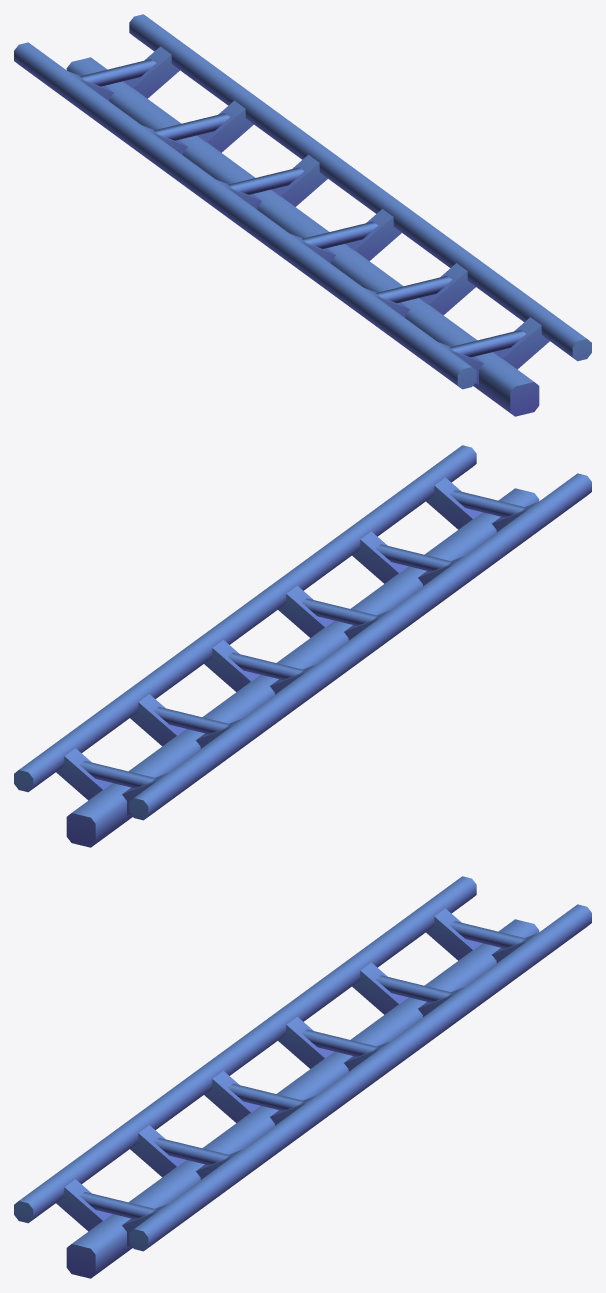
Rendered from kenney-coaster-coaster-steel-straight.glb.
3 renders of one model, top to bottom at view 1: azimuth 30°, elevation 25°; view 2: azimuth 150°, elevation 25°; view 3: azimuth 330°, elevation 25°, orthographic.
Parts seen in each view (by area): view 1: coaster-steel-straight; view 2: coaster-steel-straight; view 3: coaster-steel-straight.
Boxes of the visible parts, bbox=[...] form: coaster-steel-straight: bbox=[14, 14, 591, 416]; coaster-steel-straight: bbox=[14, 445, 591, 847]; coaster-steel-straight: bbox=[14, 876, 591, 1278].
Bounding box in the file's own units: 0.6997 × 0.2998 × 4.
Materials: 1 (1 with a texture image).
